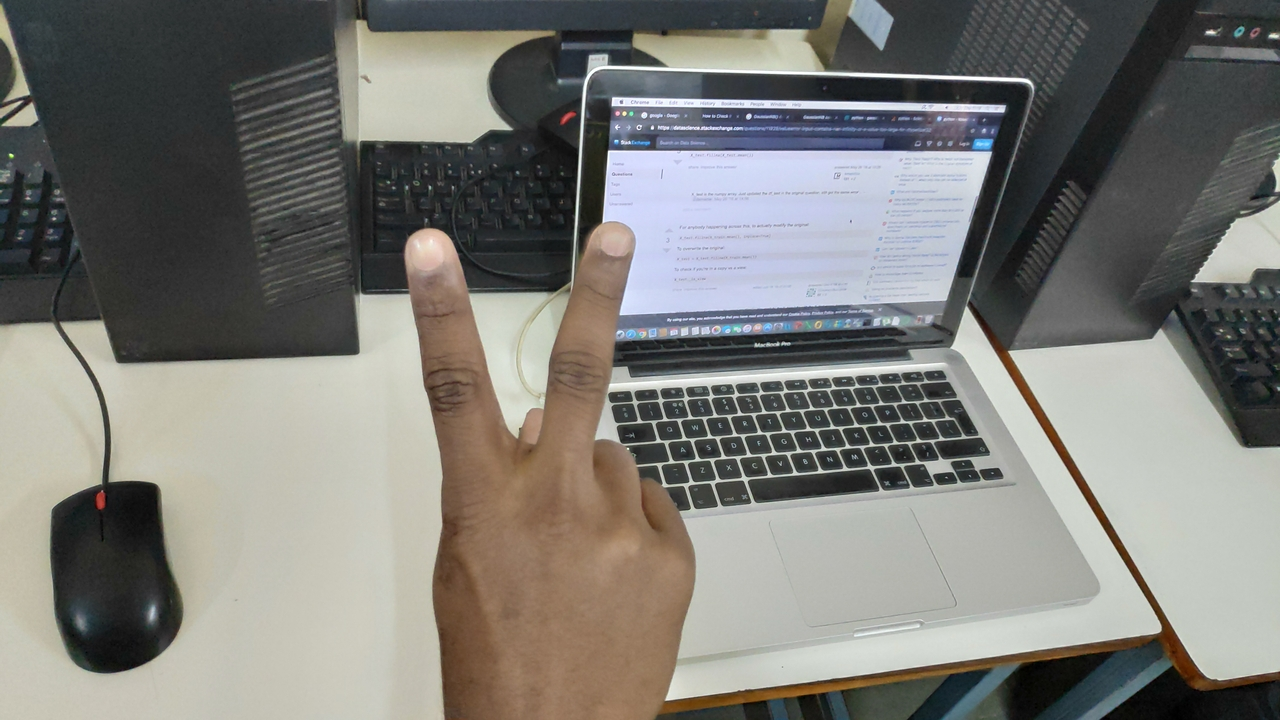fingertip: (404, 224, 460, 284), (578, 216, 636, 272)
